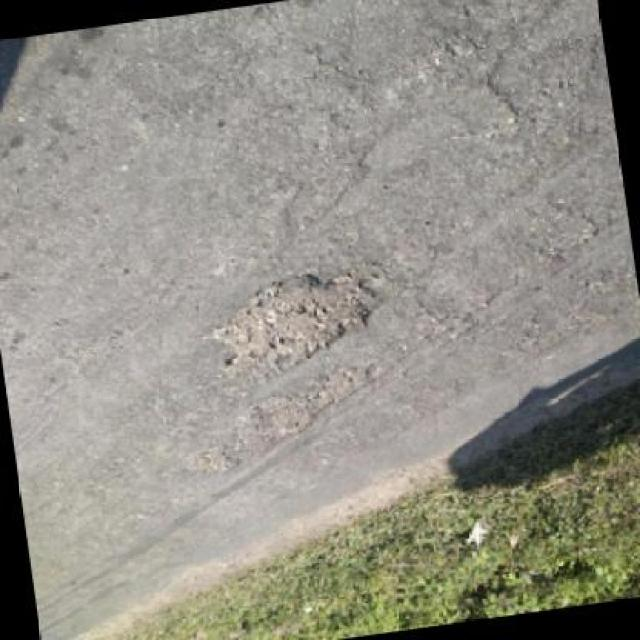pothole: (199, 260, 404, 388), (238, 362, 388, 448), (182, 441, 243, 482)
